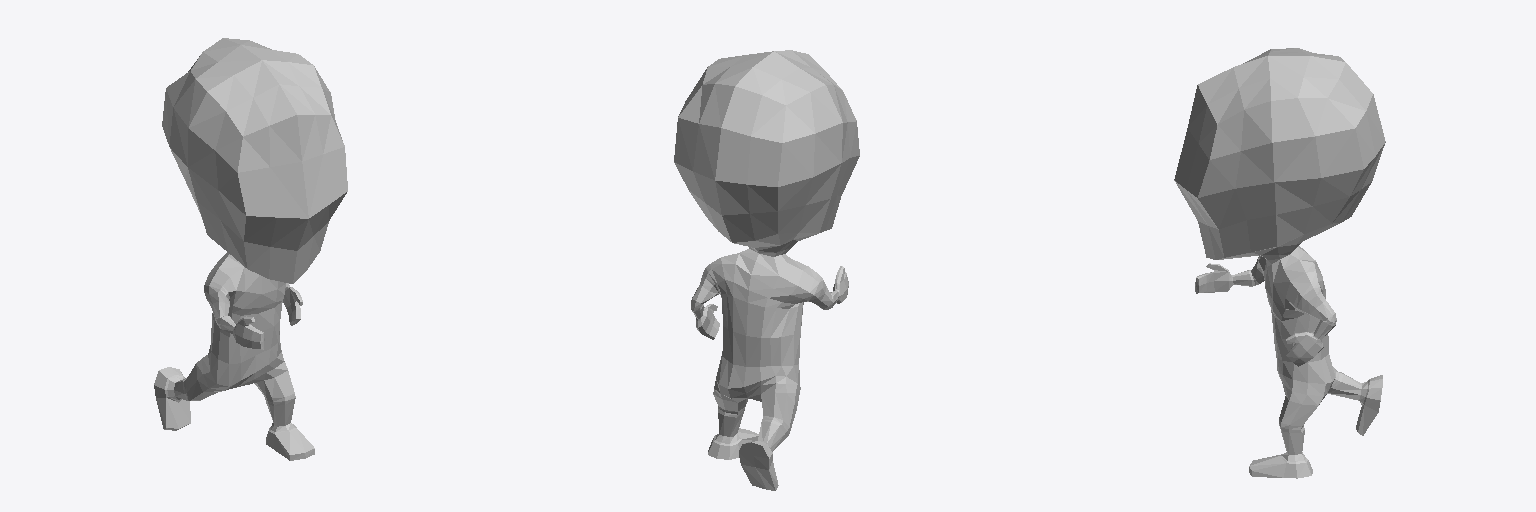
The model's file is char_000002.obj.
3 views of the same model, side by side, from view 1: azimuth 30°, elevation 25°; view 2: azimuth 150°, elevation 25°; view 3: azimuth 270°, elevation 25° (orthographic).
Parts seen in each view (by area): view 1: lp_guy_mesh_Cube; view 2: lp_guy_mesh_Cube; view 3: lp_guy_mesh_Cube.
Boxes of the visible parts, x1=… form: lp_guy_mesh_Cube: x1=154, y1=38, x2=347, y2=460; lp_guy_mesh_Cube: x1=674, y1=50, x2=859, y2=490; lp_guy_mesh_Cube: x1=1174, y1=48, x2=1385, y2=478.
Bounding box in the file's own units: 0.7344 × 1.97 × 0.9444.